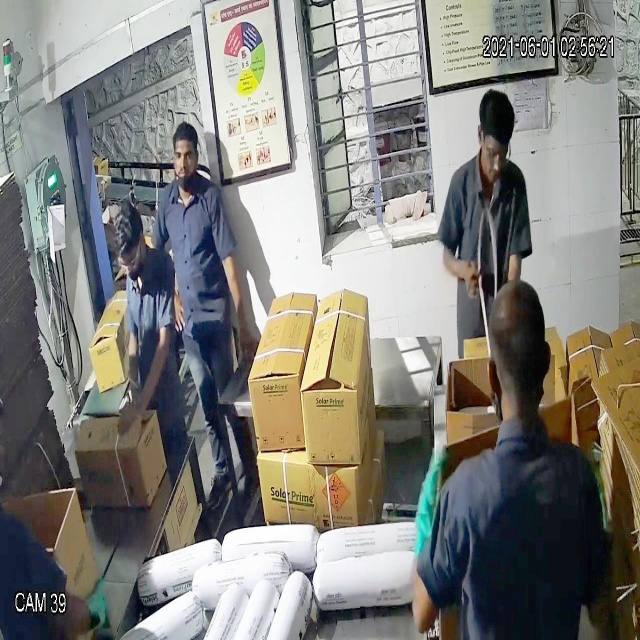Gafas: (474, 132, 518, 173), (108, 237, 147, 276)
